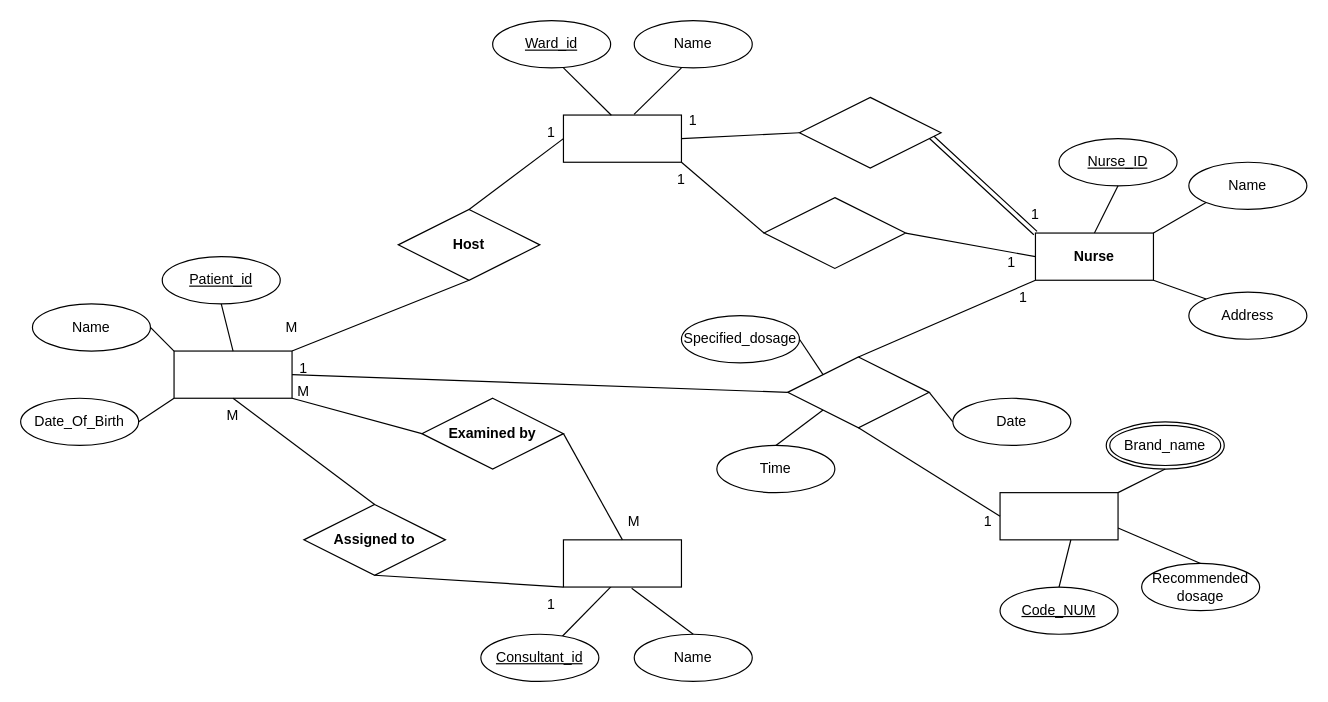
Image size: 1328x702. Some labels were removed from this diagram. The shapes that lost their labels are listed below. From the top down, each one's centre as x and y in pixels, then its label:
At (x=621, y=138): "Ward".
At (x=869, y=132): "Serve".
At (x=834, y=232): "Supervise by".
At (x=232, y=374): "Patient".
At (x=857, y=392): "Gives".
At (x=1058, y=515): "Drug".
At (x=621, y=563): "Consultant".
